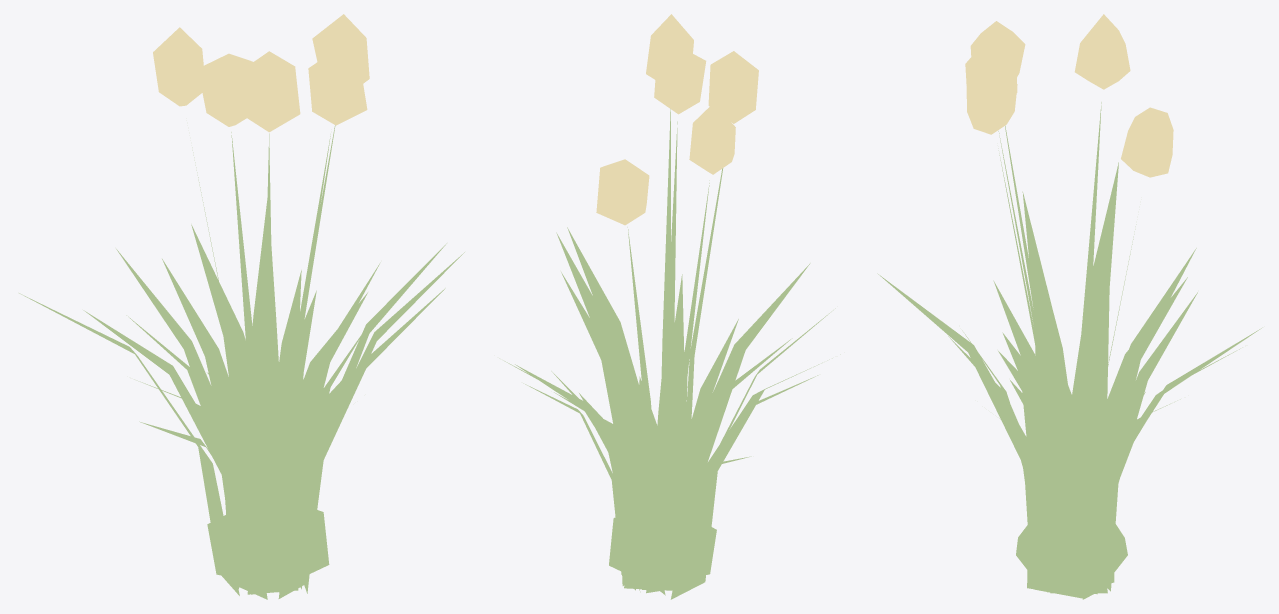
File: Blender_Plume_1.glb
The picture shows the model from 3 angles, left to right: view 1: azimuth 30°, elevation 25°; view 2: azimuth 150°, elevation 25°; view 3: azimuth 270°, elevation 25°; orthographic projection. The views are drawn at different scales.
Parts seen in each view (by area): view 1: Blender_Plume_1; view 2: Blender_Plume_1; view 3: Blender_Plume_1.
Part boxes in pixels (box(x1,y1,x2,y2)): Blender_Plume_1: box(19, 14, 464, 599); Blender_Plume_1: box(499, 14, 840, 599); Blender_Plume_1: box(877, 14, 1262, 599).
Size of the model in its own units: 1.28 by 1.86 by 1.17.
